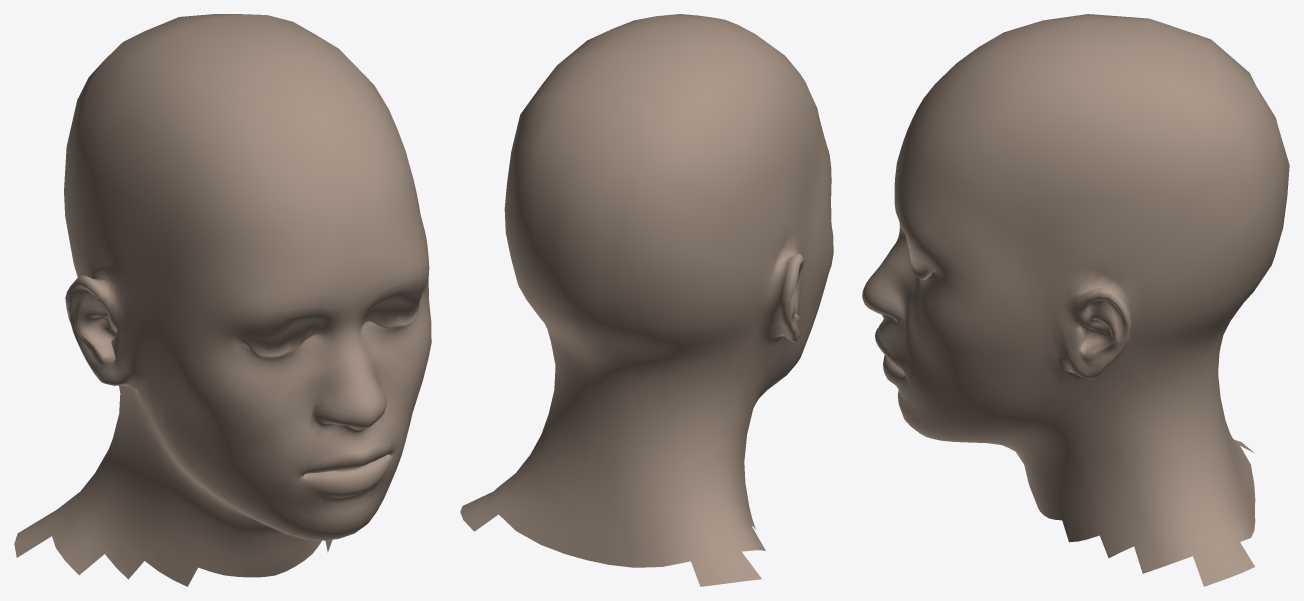
Rendered from mpfb-blink-test.glb.
3 views of the same model, side by side, from view 1: azimuth 30°, elevation 25°; view 2: azimuth 150°, elevation 25°; view 3: azimuth 270°, elevation 25° (orthographic). The views are drawn at different scales.
Parts seen in each view (by area): view 1: MPFB clay head - NOT Liam Kofi or Yuki; view 2: MPFB clay head - NOT Liam Kofi or Yuki; view 3: MPFB clay head - NOT Liam Kofi or Yuki.
Boxes of the visible parts, box(x1,y1,x2,y2) form: MPFB clay head - NOT Liam Kofi or Yuki: box(14, 14, 431, 586); MPFB clay head - NOT Liam Kofi or Yuki: box(460, 14, 833, 586); MPFB clay head - NOT Liam Kofi or Yuki: box(862, 14, 1289, 586).
Bounding box in the file's own units: 0.1731 × 0.2587 × 0.2082.
